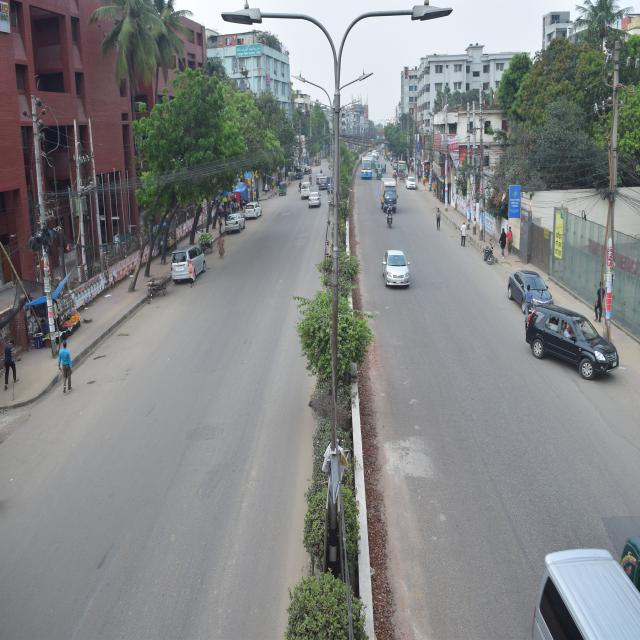bus: (359, 154, 374, 181)
car: (526, 302, 636, 387), (509, 270, 551, 313), (377, 245, 409, 300), (222, 208, 245, 231), (244, 200, 264, 223), (301, 177, 320, 196), (307, 190, 320, 209)
microbus: (172, 239, 206, 284)
motorbike: (386, 198, 394, 234), (485, 242, 493, 266)
truck: (380, 184, 400, 211)
